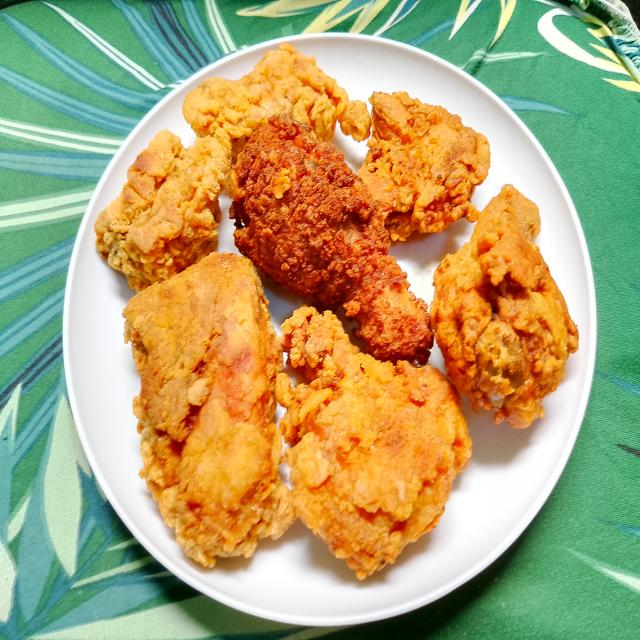Chicken -Fried Chicken-: (276, 312, 475, 576), (239, 115, 437, 374), (131, 248, 275, 576), (436, 187, 575, 431), (183, 36, 352, 177), (92, 122, 228, 296), (357, 90, 498, 244)
